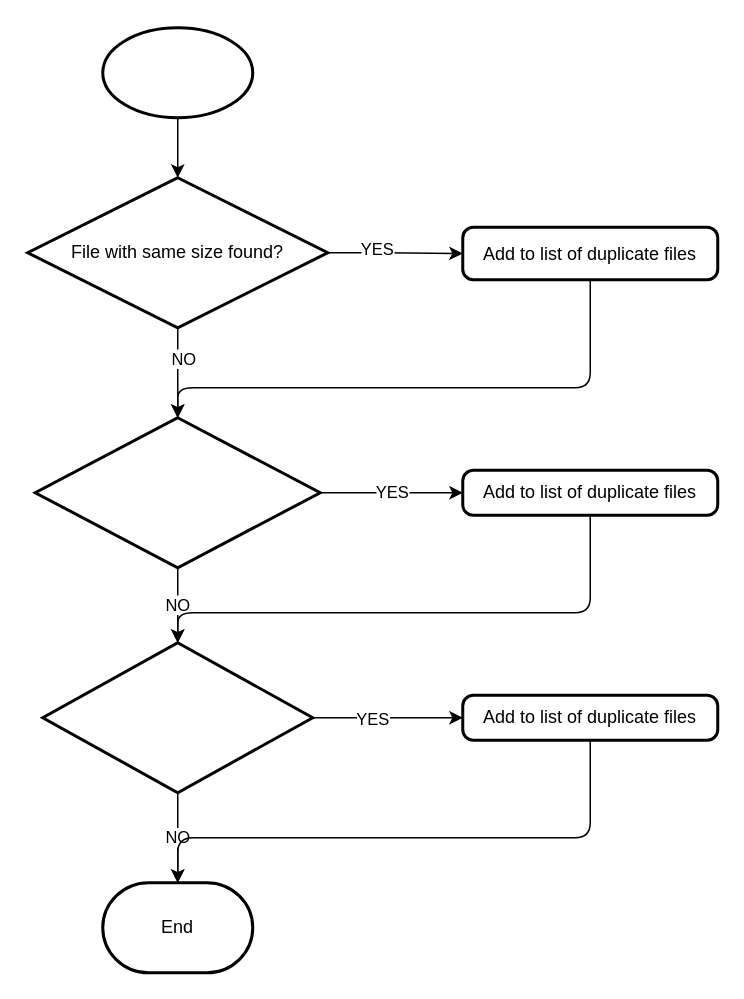
The diagram is 744 pixels wide and 999 high, and some of its shapes have lost their labels. The shapes that lost their labels are listed below. From the top down, each one's box as (x1, y1, x2, y2) in pixels, then its label:
(100, 26, 254, 118): Start DuplicateFinder
(33, 416, 321, 568): File with same size and name found?
(40, 640, 314, 794): File with same hash found?
